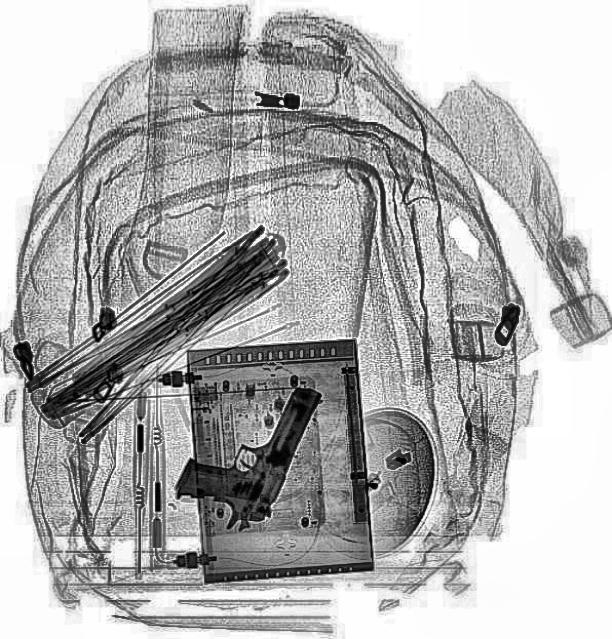Gun: (166, 356, 320, 542)
